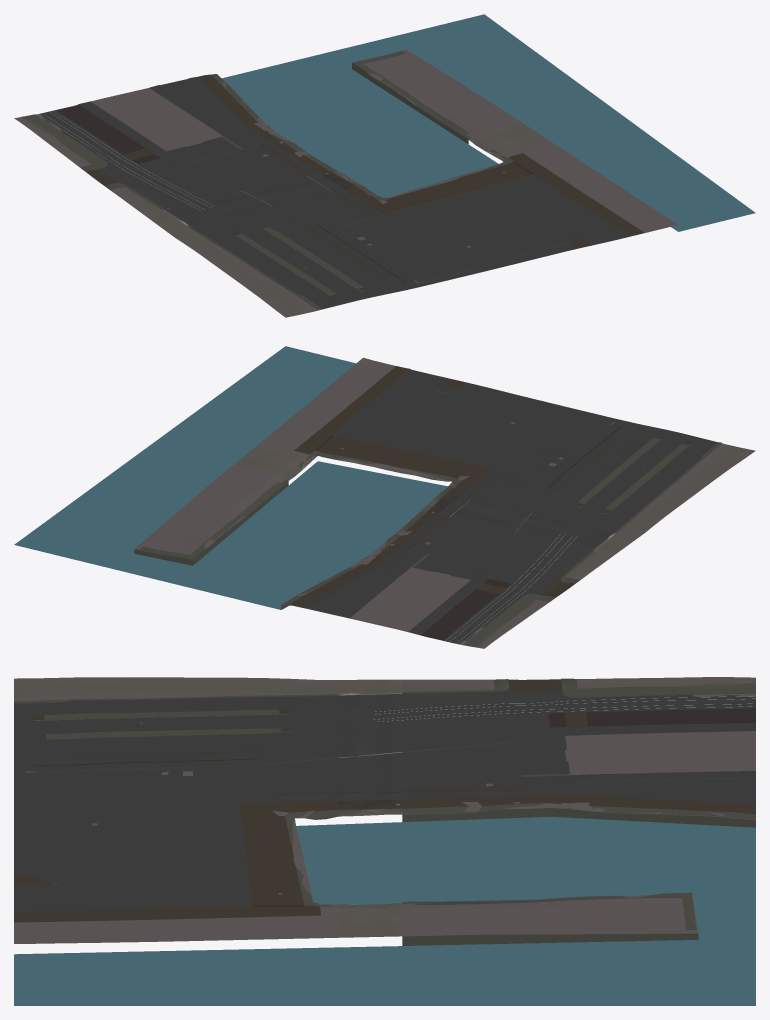
3 renders of one model, top to bottom at view 1: azimuth 30°, elevation 25°; view 2: azimuth 150°, elevation 25°; view 3: azimuth 270°, elevation 25°, orthographic. The views are drawn at different scales.
Parts seen in each view (by area): view 1: c_p00_p03; view 2: c_p00_p03; view 3: c_p00_p03.
Part boxes in pixels (bbox=[...]): c_p00_p03: bbox=[14, 14, 755, 317]; c_p00_p03: bbox=[14, 346, 755, 648]; c_p00_p03: bbox=[14, 677, 755, 1005].
Size of the model in its own units: 128 by 2.92 by 128.
